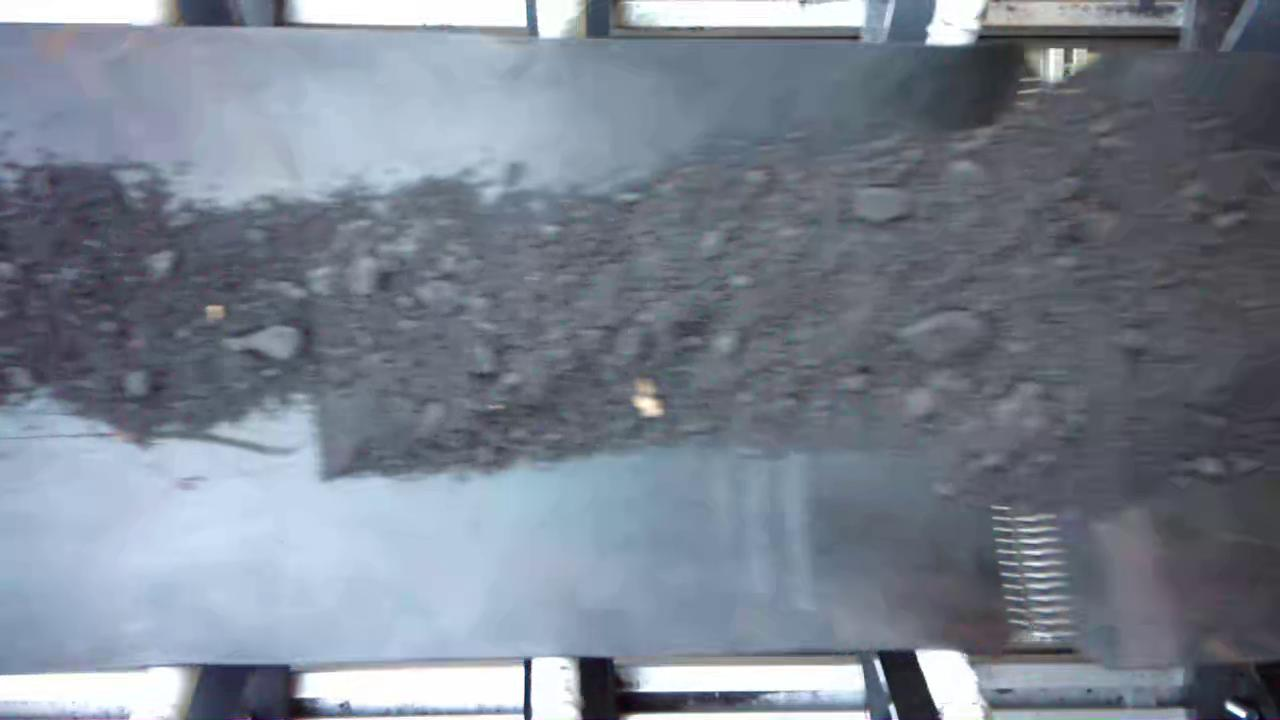conveyor: (1, 41, 1280, 660)
